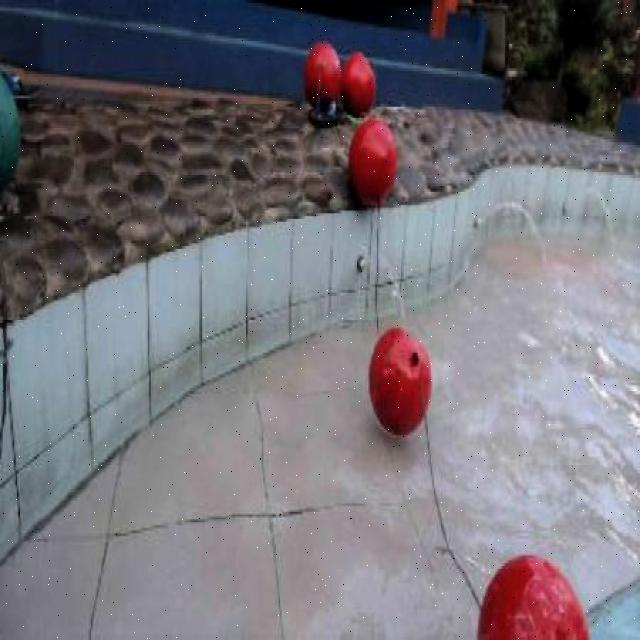buoy: (476, 551, 590, 637), (367, 326, 429, 435), (348, 117, 397, 205), (303, 38, 340, 104), (339, 49, 375, 115)
